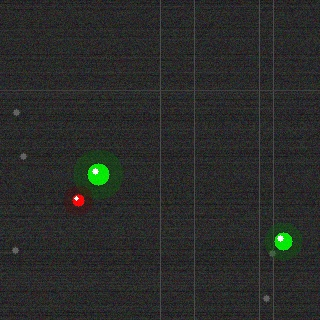green_normal: (85, 161, 111, 187), (272, 230, 294, 252)
red_fault: (70, 192, 86, 208)
